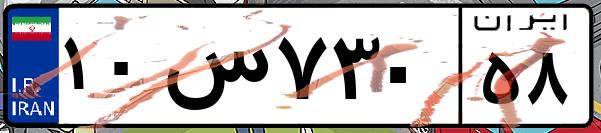0: (385, 28, 445, 110), (110, 28, 158, 98)
1: (57, 26, 110, 100)
3: (330, 28, 385, 110)
5: (475, 38, 525, 113)
7: (270, 28, 330, 110)
8: (525, 38, 570, 115)
س: (158, 20, 270, 120)
